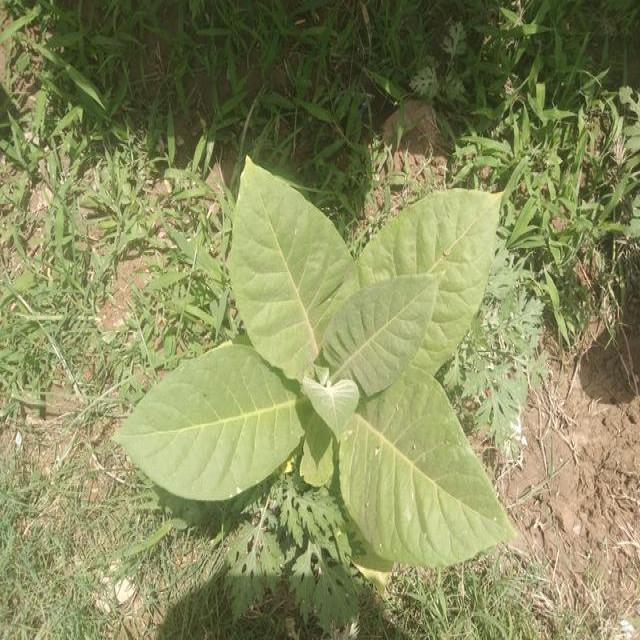crop: (111, 152, 518, 565)
